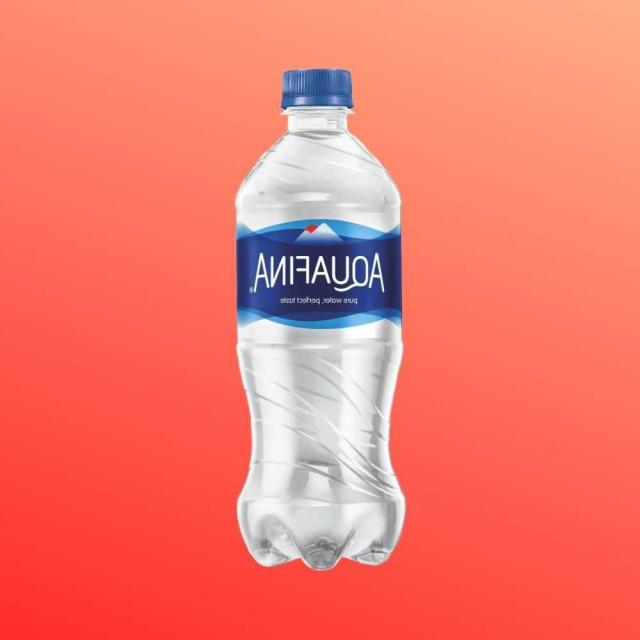plastic: (236, 68, 404, 570)
